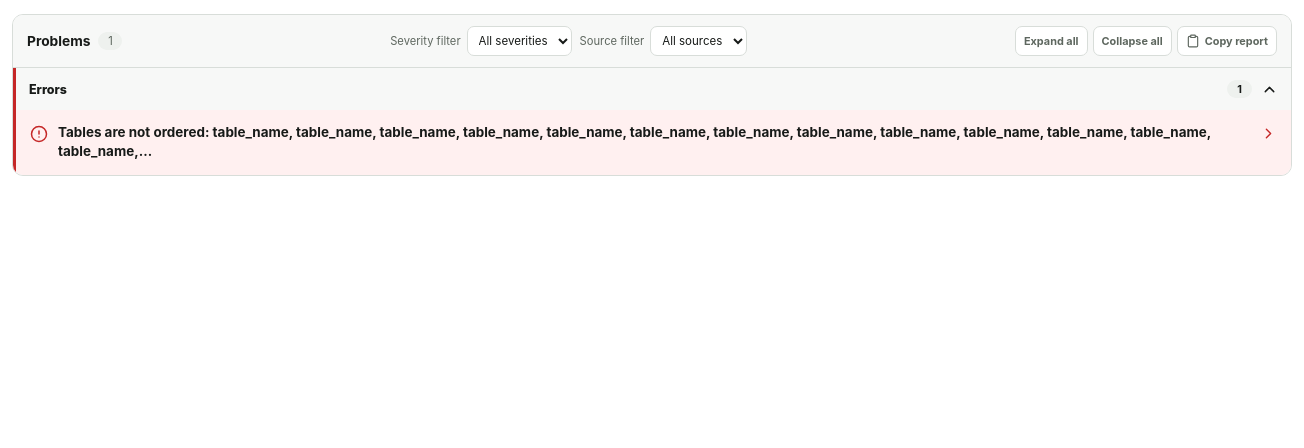
Test case: keeps very long diagnostic text out of the compact problem card
The width and height of the screenshot is (1304, 448).
Click the heading "Tables are not ordered" at (654, 142), box [30, 123, 1277, 162]
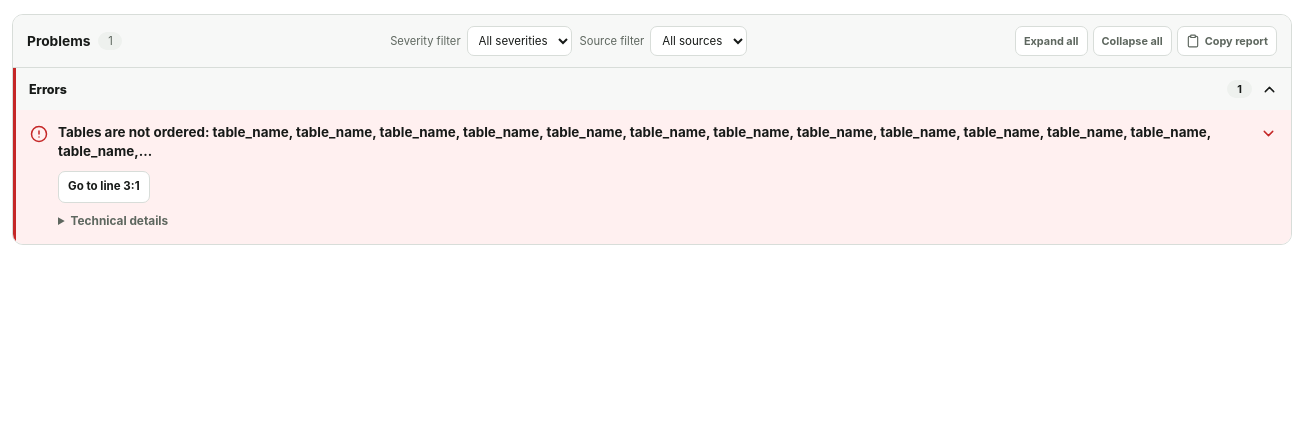
Click the heading "Technical details" at (119, 221), box [70, 214, 168, 228]
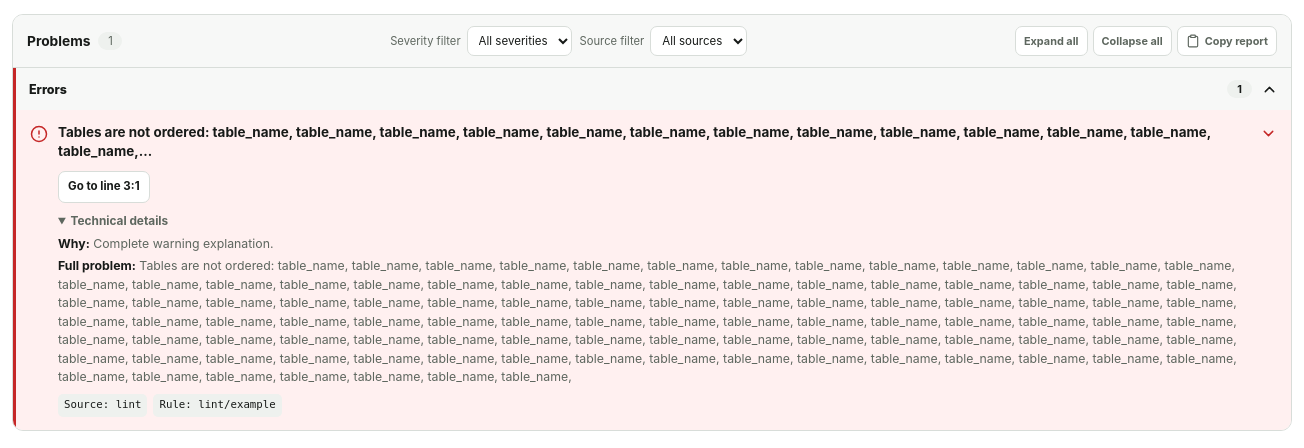
expect the text "Tables are not ordered" is shown: met, box [58, 258, 1237, 384]
